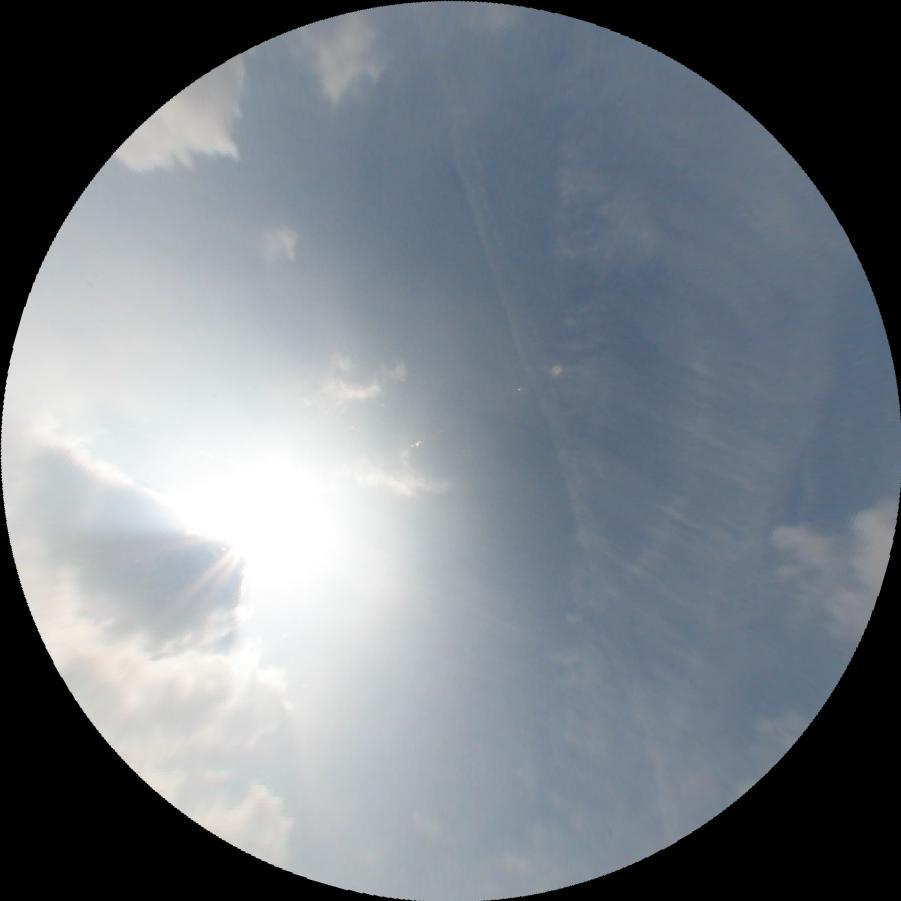contrail veryold: (406, 28, 689, 849)
sun: (167, 445, 347, 649)
